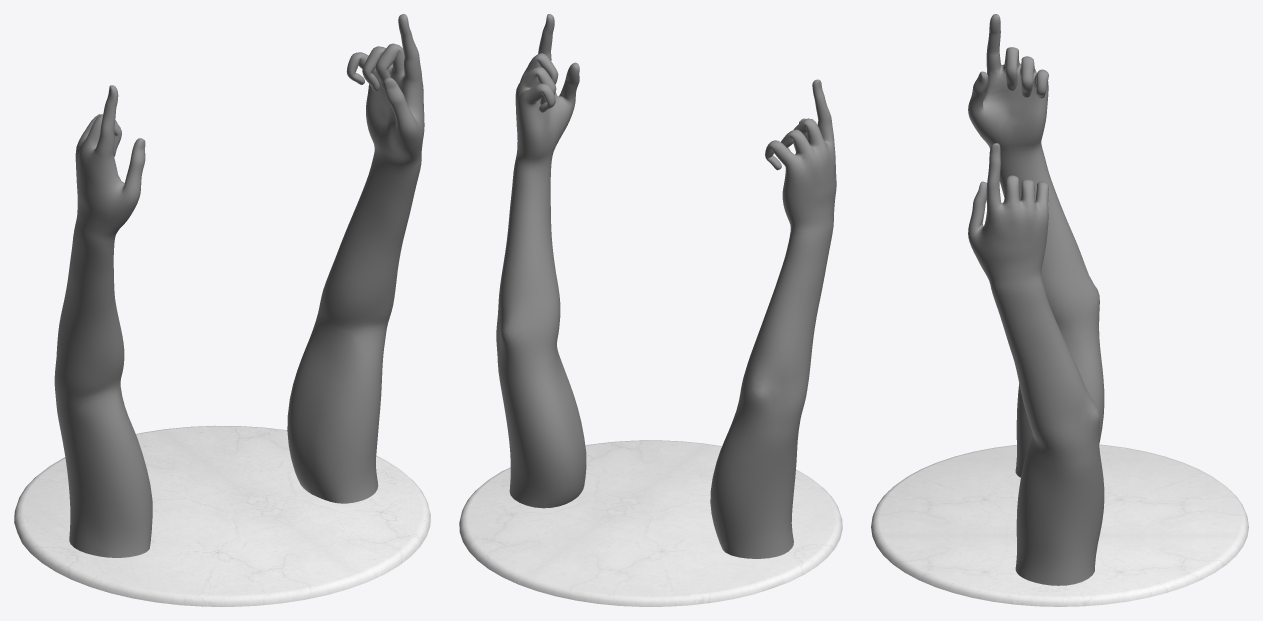
File: Decor_Hands01.FBX
3 views of the same model, side by side, from view 1: azimuth 30°, elevation 25°; view 2: azimuth 150°, elevation 25°; view 3: azimuth 270°, elevation 25° (orthographic). The views are drawn at different scales.
Parts seen in each view (by area): view 1: Decor_Hands01; view 2: Decor_Hands01; view 3: Decor_Hands01.
Part boxes in pixels (x1,y1,x2,y2): Decor_Hands01: (14, 14, 430, 606); Decor_Hands01: (459, 14, 842, 606); Decor_Hands01: (871, 14, 1248, 606).
Size of the model in its own units: 83.73 by 110 by 83.73.
